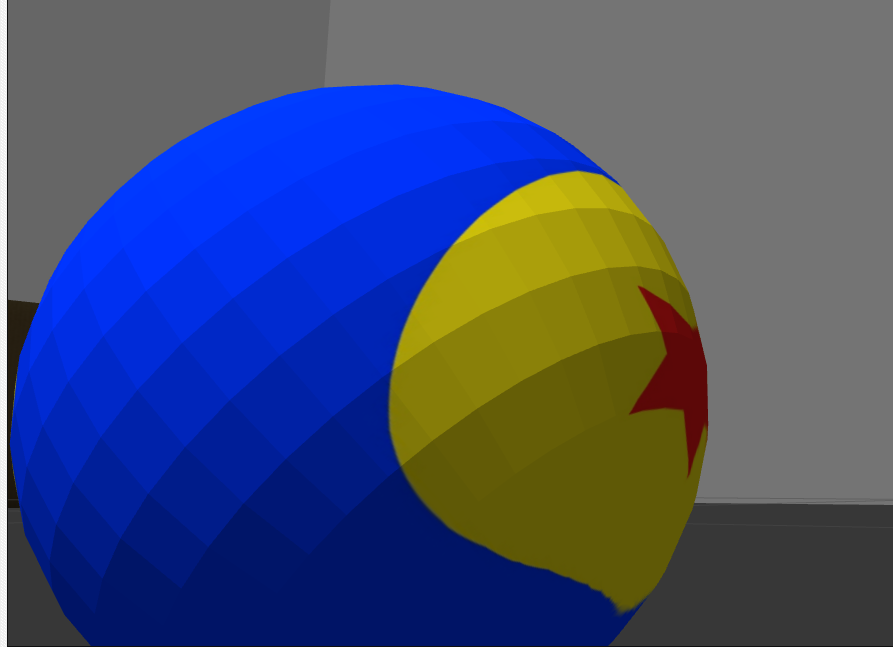toy story ball: (12, 85, 708, 645)
